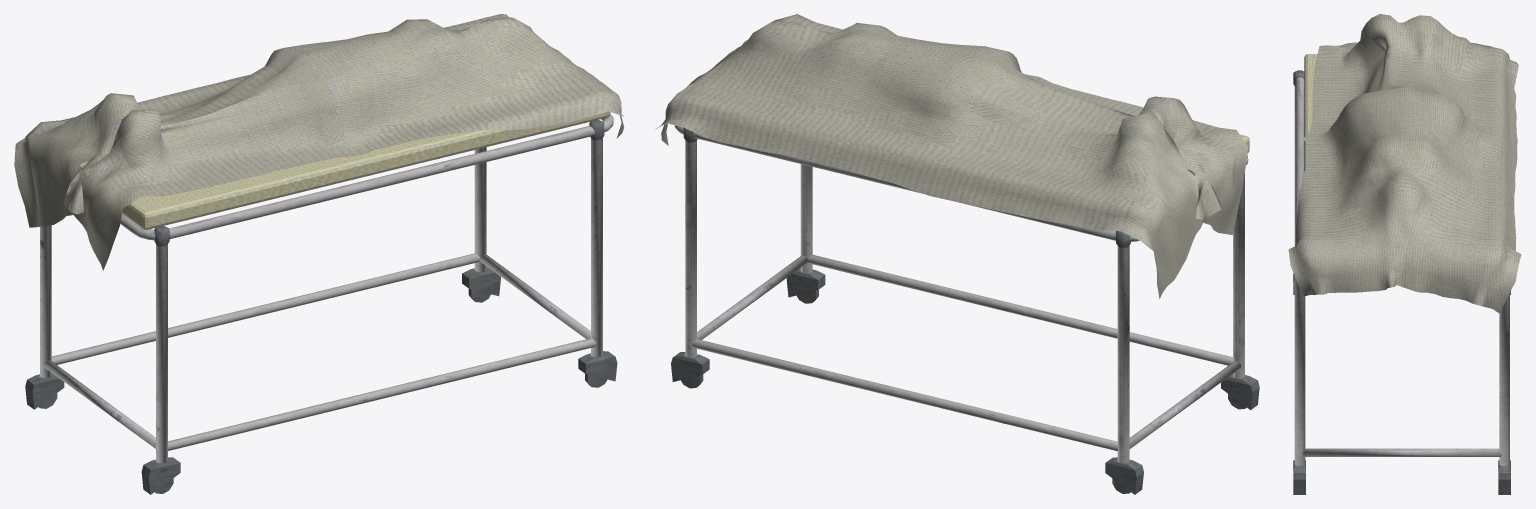
Rendered from gurney_covered.glb.
The picture shows the model from 3 angles, left to right: view 1: azimuth 30°, elevation 25°; view 2: azimuth 150°, elevation 25°; view 3: azimuth 270°, elevation 25°; orthographic projection. The views are drawn at different scales.
Visible parts, largest first — view 1: Maca; view 2: Maca; view 3: Maca.
Boxes of the visible parts, x1=… form: Maca: x1=14, y1=14, x2=624, y2=494; Maca: x1=655, y1=14, x2=1259, y2=494; Maca: x1=1288, y1=14, x2=1521, y2=494.
Bounding box in the file's own units: 2.43 × 1.55 × 1.08.
1 material, 1 textured.
